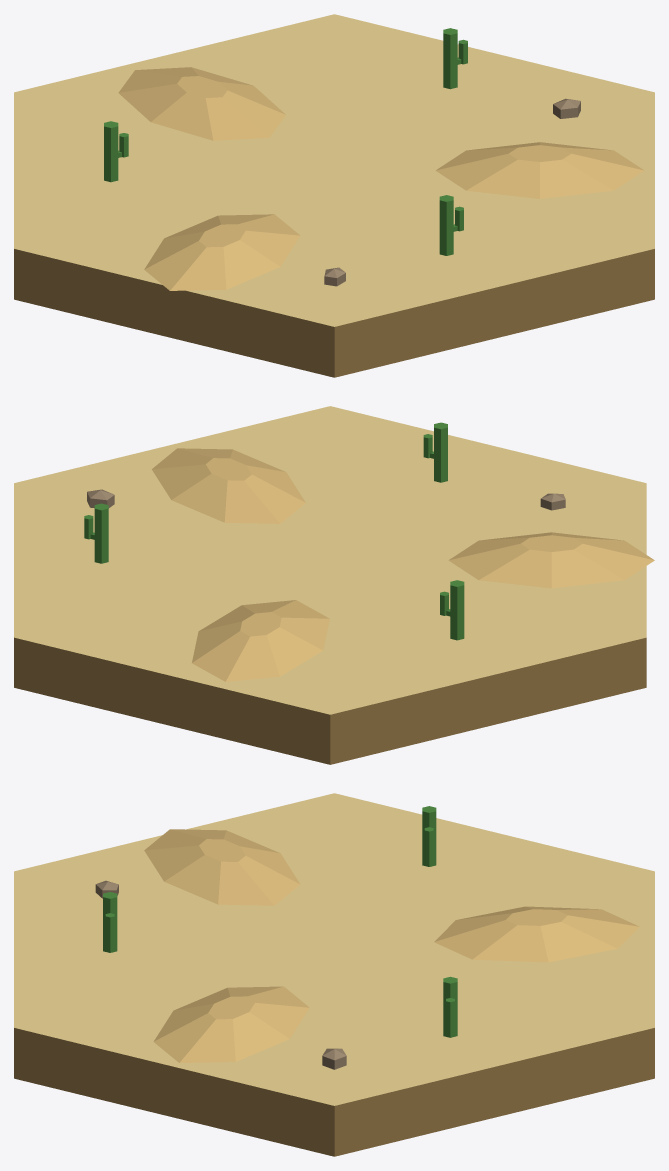
The model's file is desert.obj.
The picture shows the model from 3 angles, top to bottom: view 1: azimuth 30°, elevation 25°; view 2: azimuth 150°, elevation 25°; view 3: azimuth 270°, elevation 25°; orthographic projection.
Parts seen in each view (by area): view 1: desert; view 2: desert; view 3: desert.
Part boxes in pixels (left/top/right/bottom): desert: left=14, top=14, right=654, bottom=377; desert: left=14, top=406, right=654, bottom=764; desert: left=14, top=793, right=654, bottom=1156.
Size of the model in its own units: 1.98 by 0.31 by 1.71.
